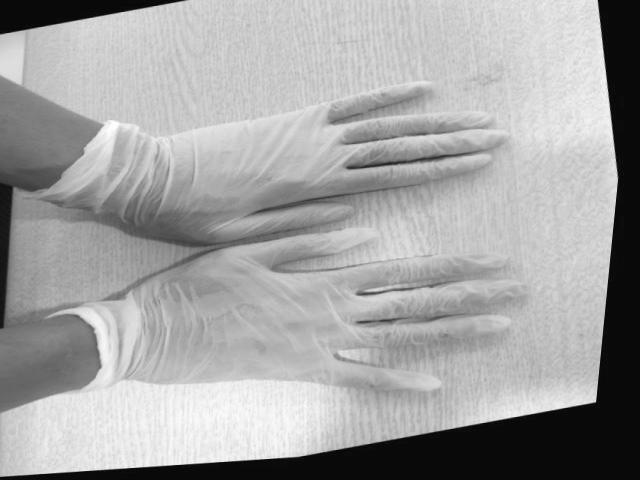gloved: (129, 228, 526, 395), (148, 80, 513, 243)
